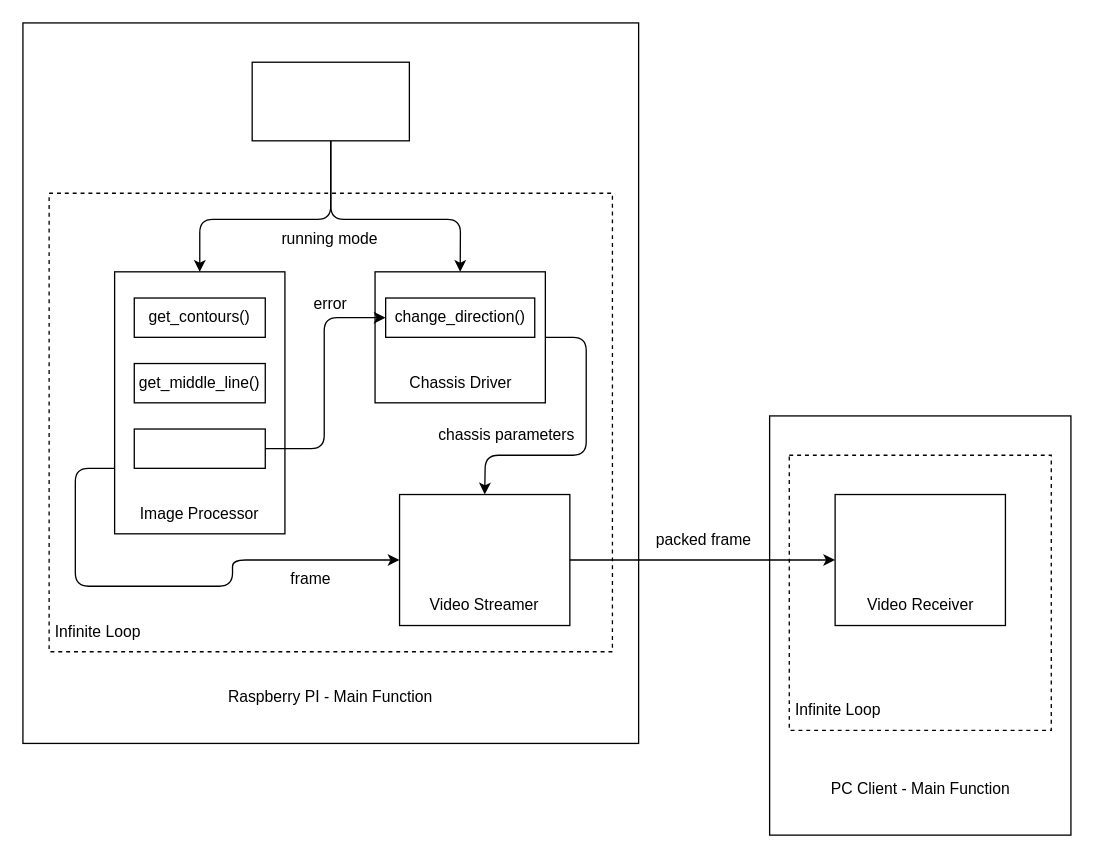
The diagram is 1094 pixels wide and 858 high, and some of its shapes have lost their labels. Here are the shapes that lost their labels. From the top down, the centre of each, then its label:
At [330,101]: "Argparser".
At [199,448]: "calculate_error()".
